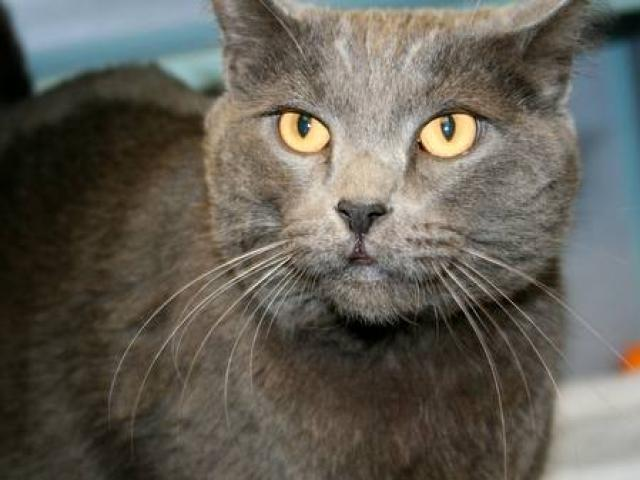cat: (38, 3, 615, 476)
